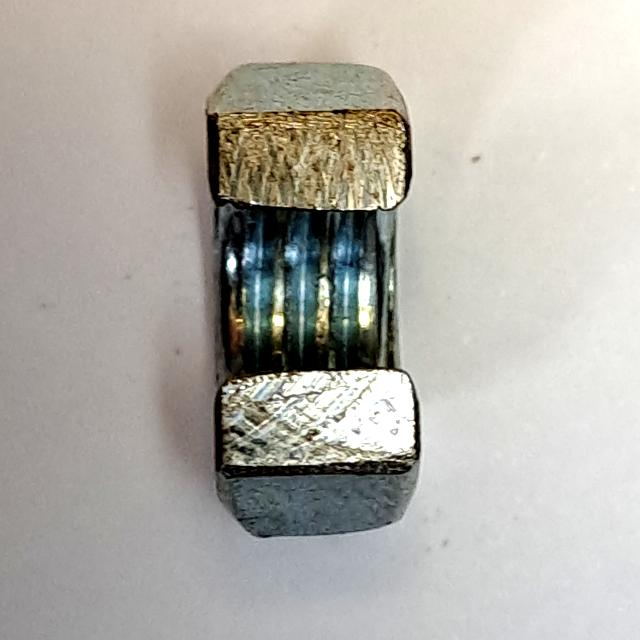Side-Fracture: (186, 55, 438, 553)
